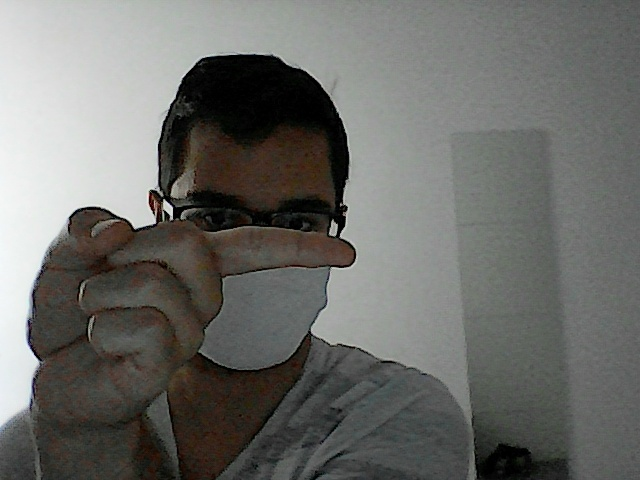left: (22, 200, 364, 425)
